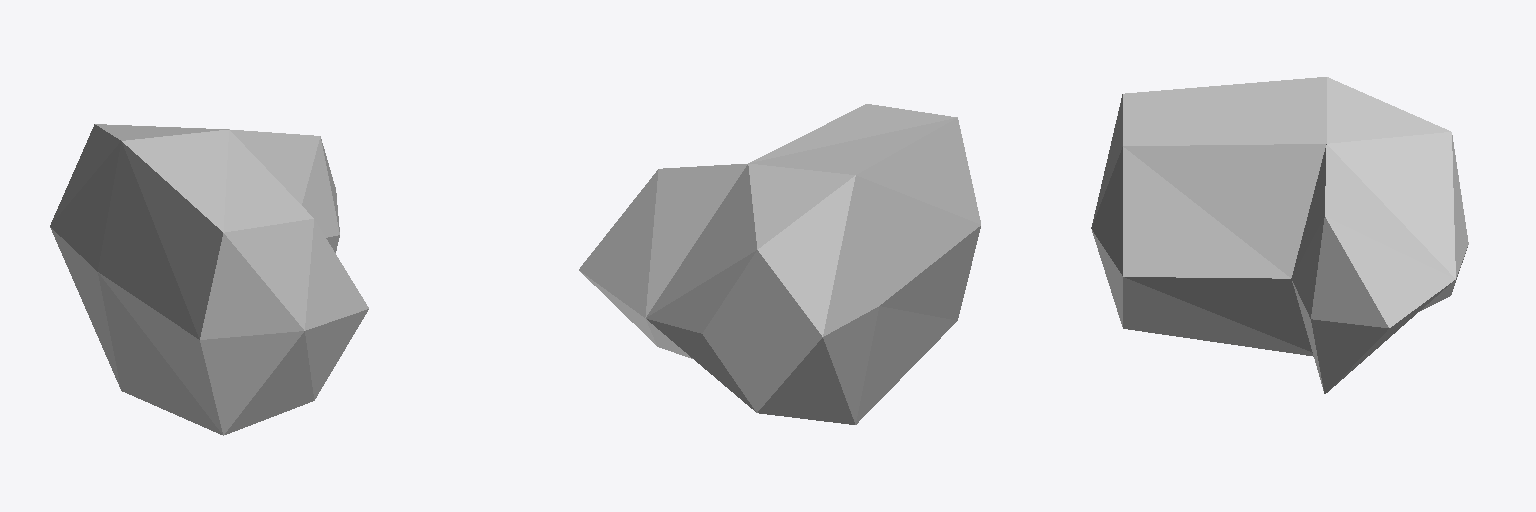
Rendered from Gib00.obj.
The picture shows the model from 3 angles: view 1: azimuth 30°, elevation 25°; view 2: azimuth 150°, elevation 25°; view 3: azimuth 270°, elevation 25°; orthographic projection.
Visible parts, largest first — view 1: Cube.011; view 2: Cube.011; view 3: Cube.011.
Part boxes in pixels (left/top/right/bottom): Cube.011: left=50, top=124, right=368, bottom=435; Cube.011: left=579, top=104, right=980, bottom=424; Cube.011: left=1091, top=77, right=1468, bottom=393.
Bounding box in the file's own units: 0.3843 × 0.3404 × 0.4658.